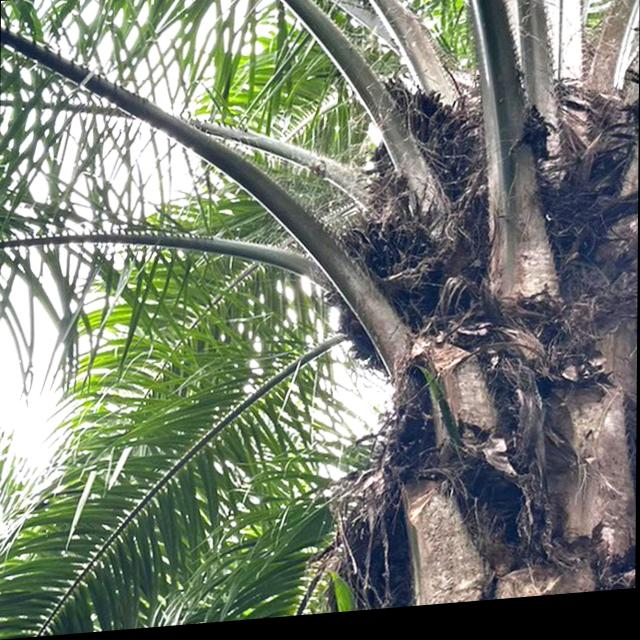unripe: (322, 209, 447, 379)
